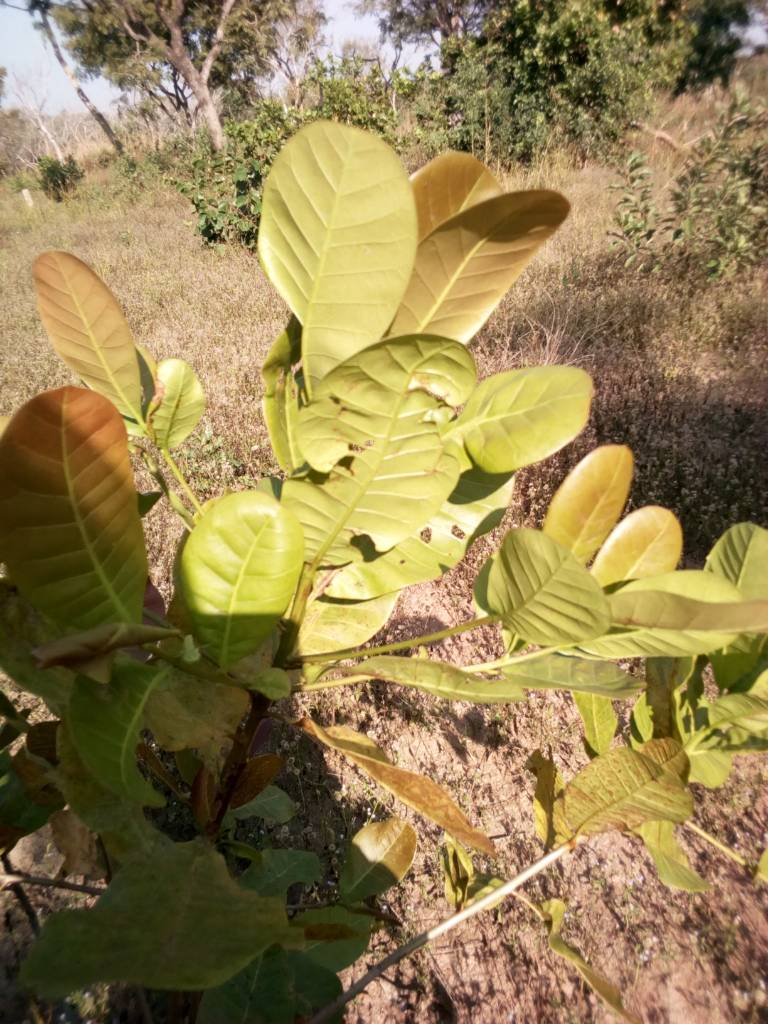Anoplocnemis curvipes: (22, 846, 288, 1000), (315, 328, 465, 546)
